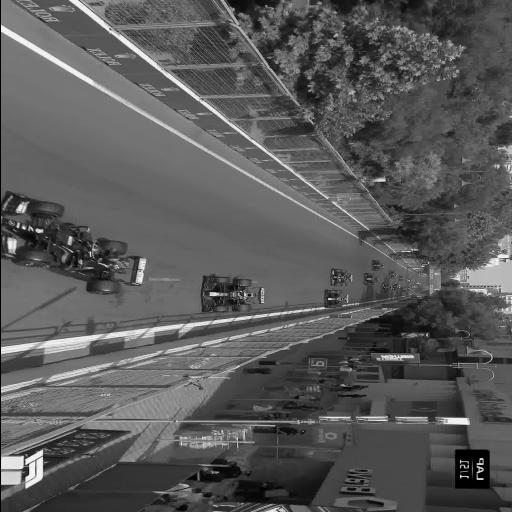f1_car: (1, 192, 146, 295), (202, 276, 264, 313), (324, 290, 348, 307), (330, 269, 352, 286), (364, 273, 378, 285), (372, 260, 384, 271), (382, 283, 392, 291), (388, 271, 398, 278), (392, 283, 400, 290), (399, 276, 405, 280), (406, 279, 412, 282)
